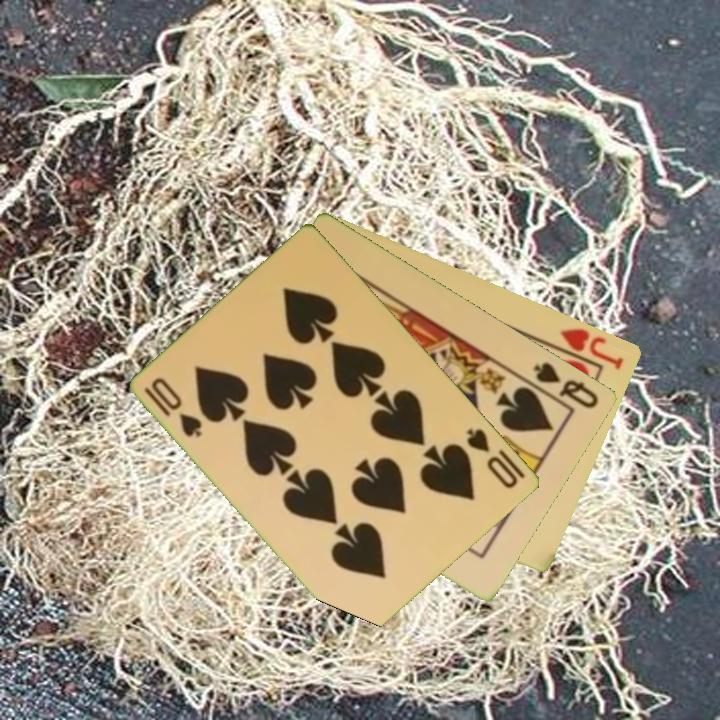10s: (141, 373, 206, 441), (463, 424, 522, 492)
Jh: (545, 324, 628, 373)
Qs: (530, 358, 602, 412)
